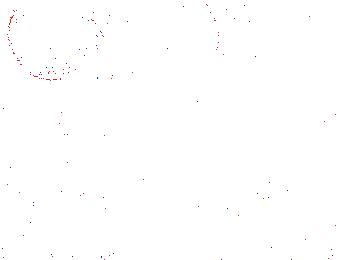moon jellyfish: (88, 1, 177, 78), (7, 1, 87, 81), (164, 1, 220, 90), (223, 9, 317, 59)
